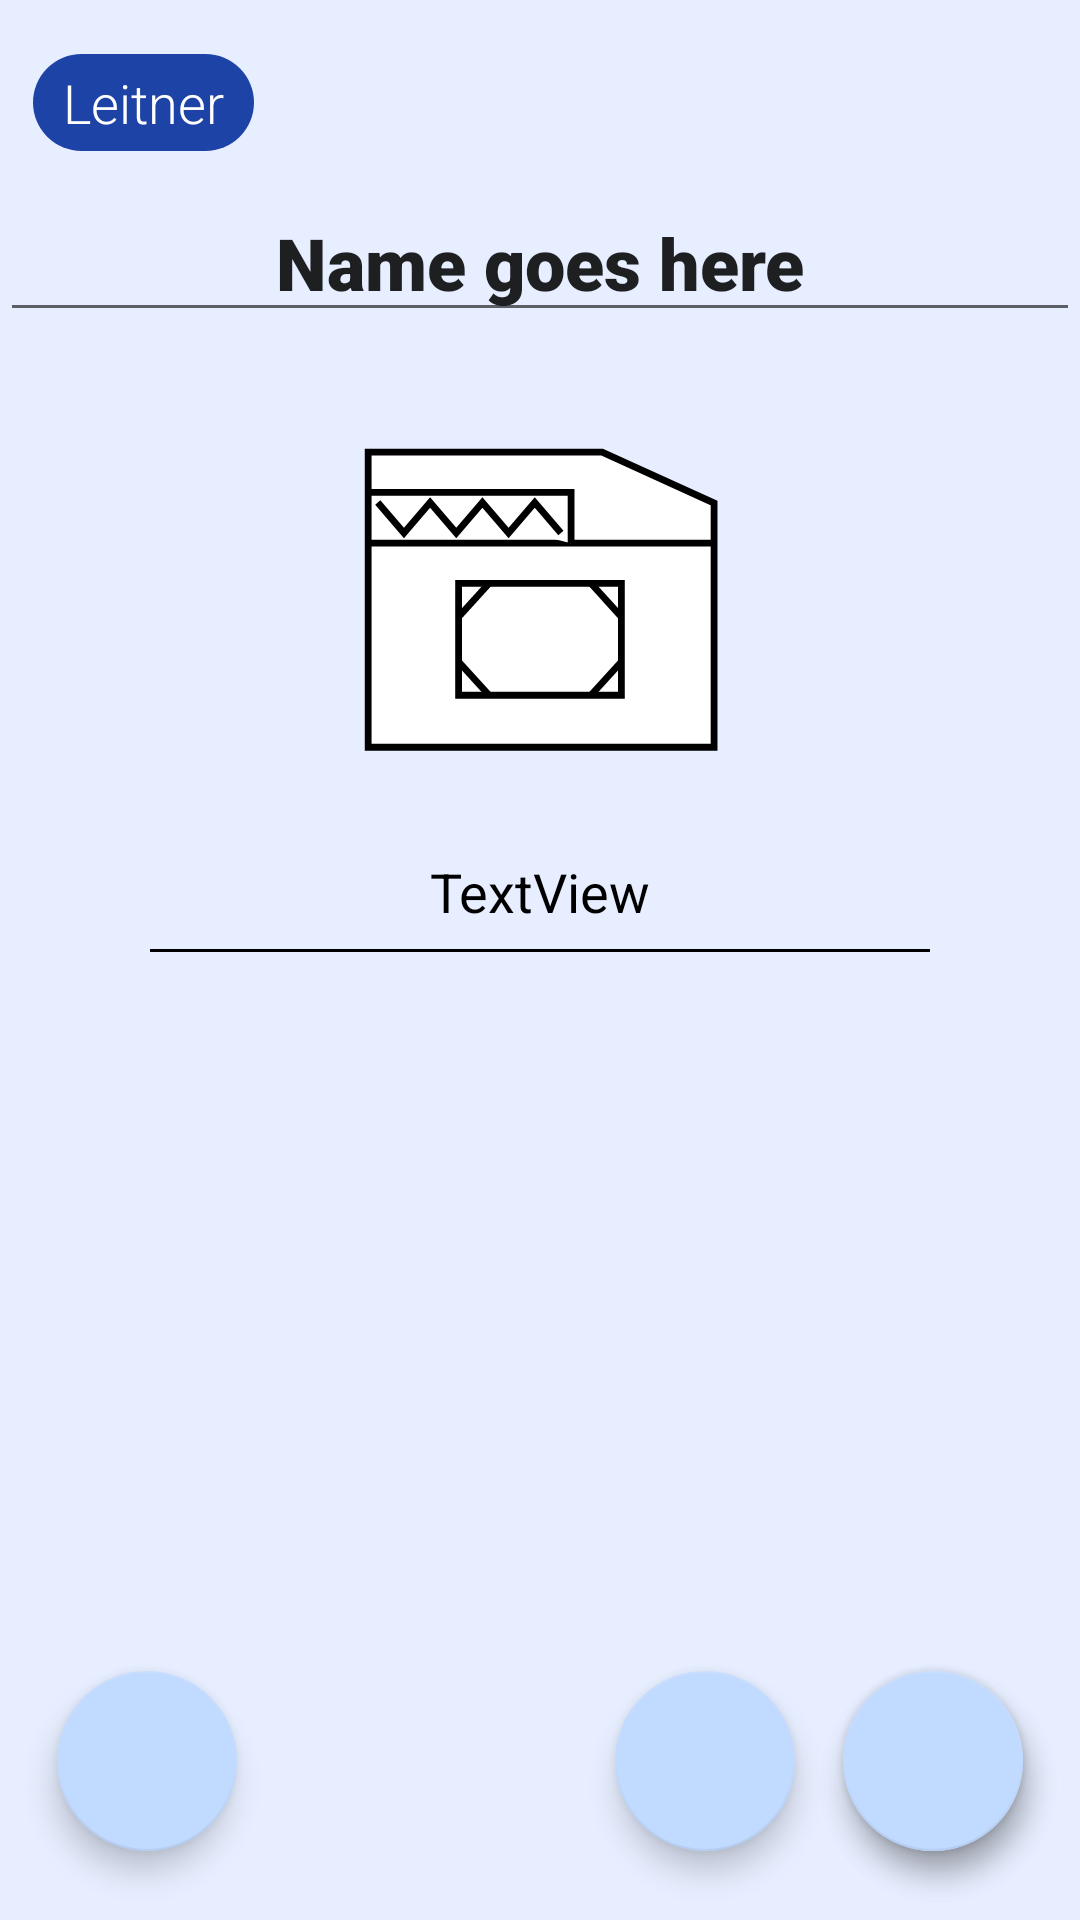

Where to tap for icons on this 1080*1920 app screen, as [x,y]:
Folder: [541,599]
